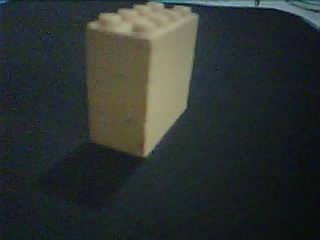lego: (82, 1, 201, 160)
